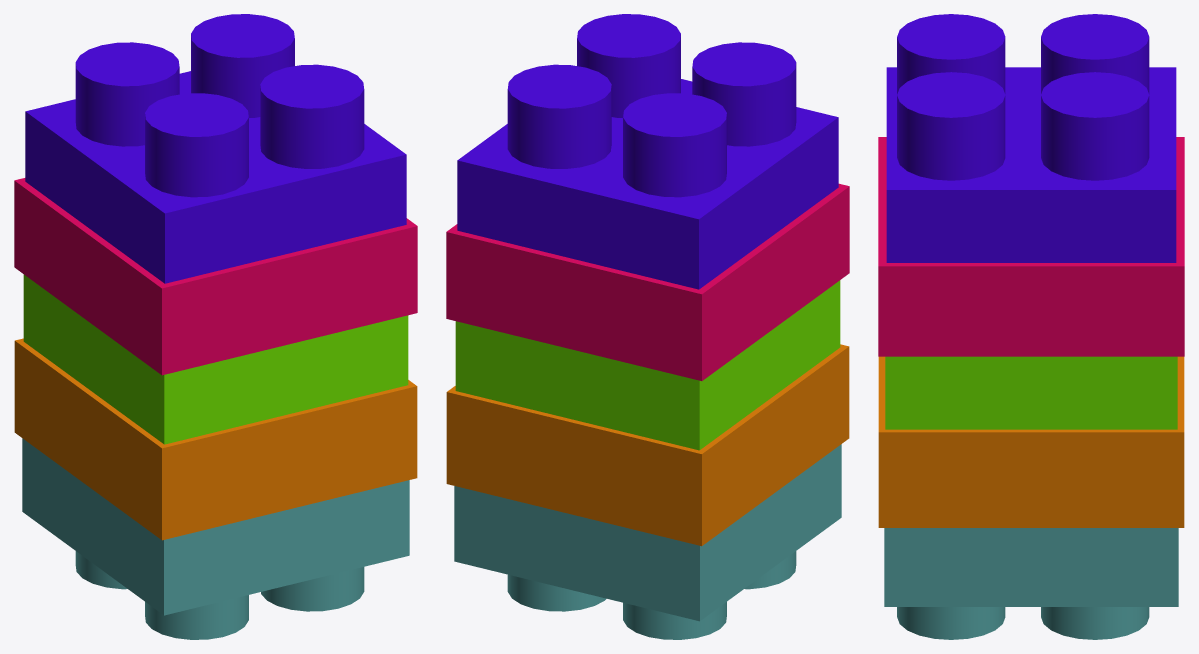
Rendered from toy2.fbx.
The picture shows the model from 3 angles, left to right: view 1: azimuth 30°, elevation 25°; view 2: azimuth 150°, elevation 25°; view 3: azimuth 270°, elevation 25°; orthographic projection. The views are drawn at different scales.
Visible parts, largest first — view 1: pCylinder22; view 2: pCylinder22; view 3: pCylinder22.
Boxes of the visible parts, x1,y1,x2,y2 form: pCylinder22: [14, 14, 417, 639]; pCylinder22: [446, 14, 849, 639]; pCylinder22: [878, 14, 1184, 639].
Size of the model in its own units: 2.83 by 5.32 by 2.83.
